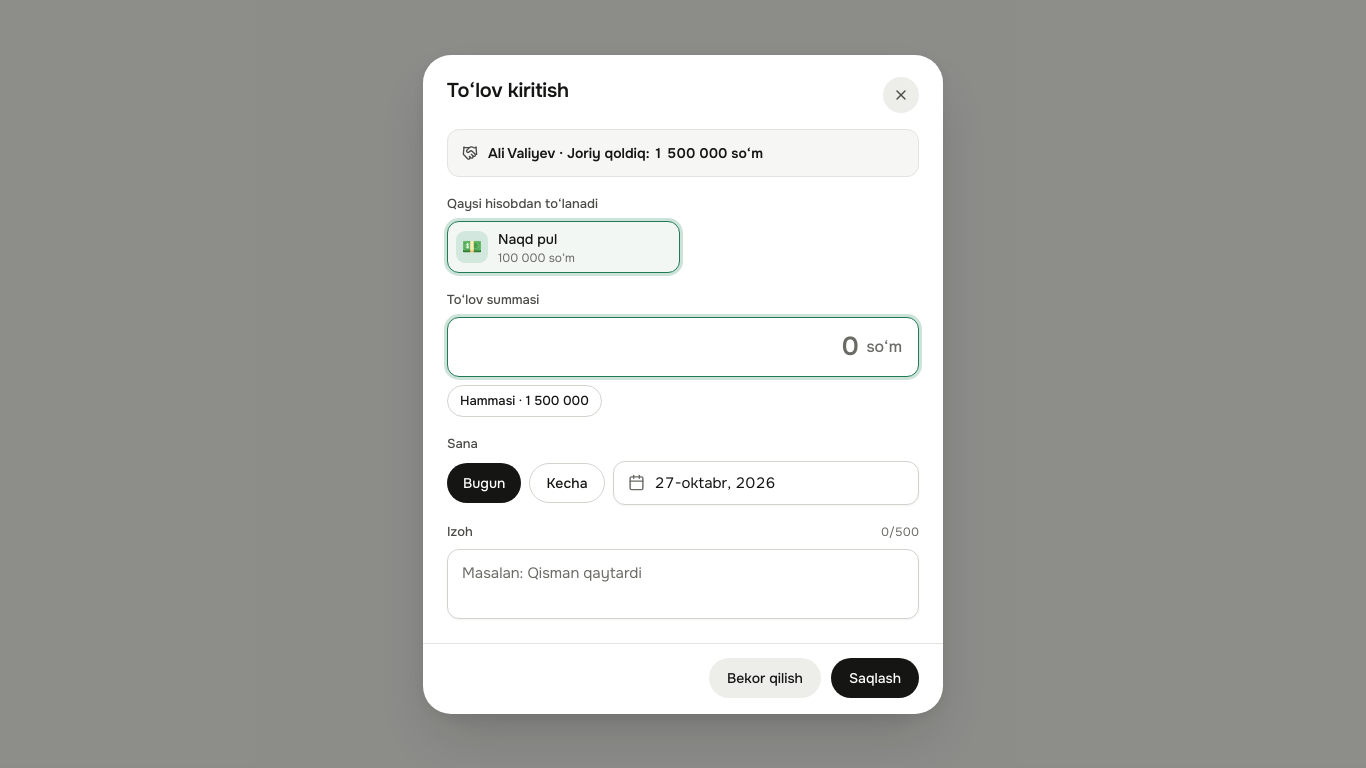
Test case: DebtPaymentModal › shows the strict-mode refusal inside the form
Check: the text "Qaysi hisobdan to‘lanadi" is shown, box [447, 194, 598, 212]
Type "1000" into the field labelled "To‘lov summasi" at (661, 346), box [464, 318, 858, 376]
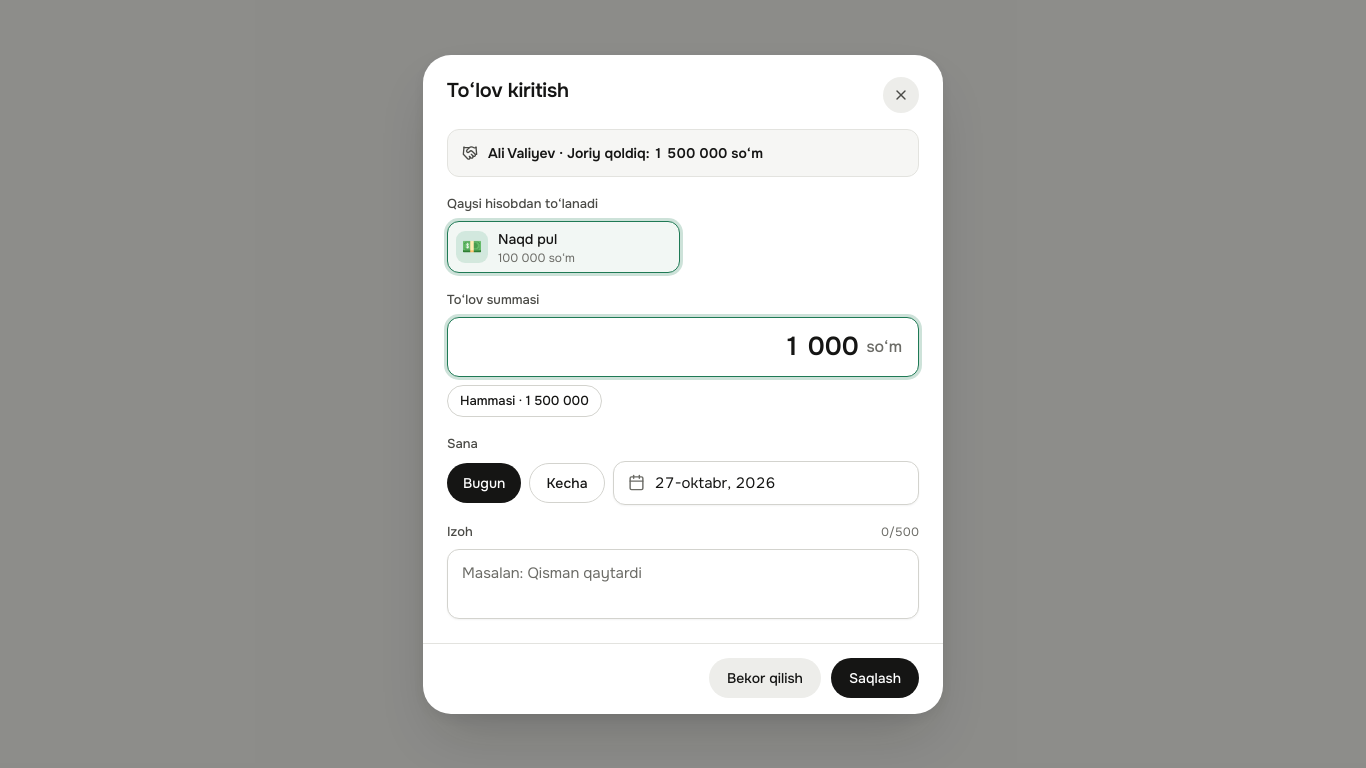
Click the button "Saqlash" at (875, 678), box [831, 658, 919, 698]
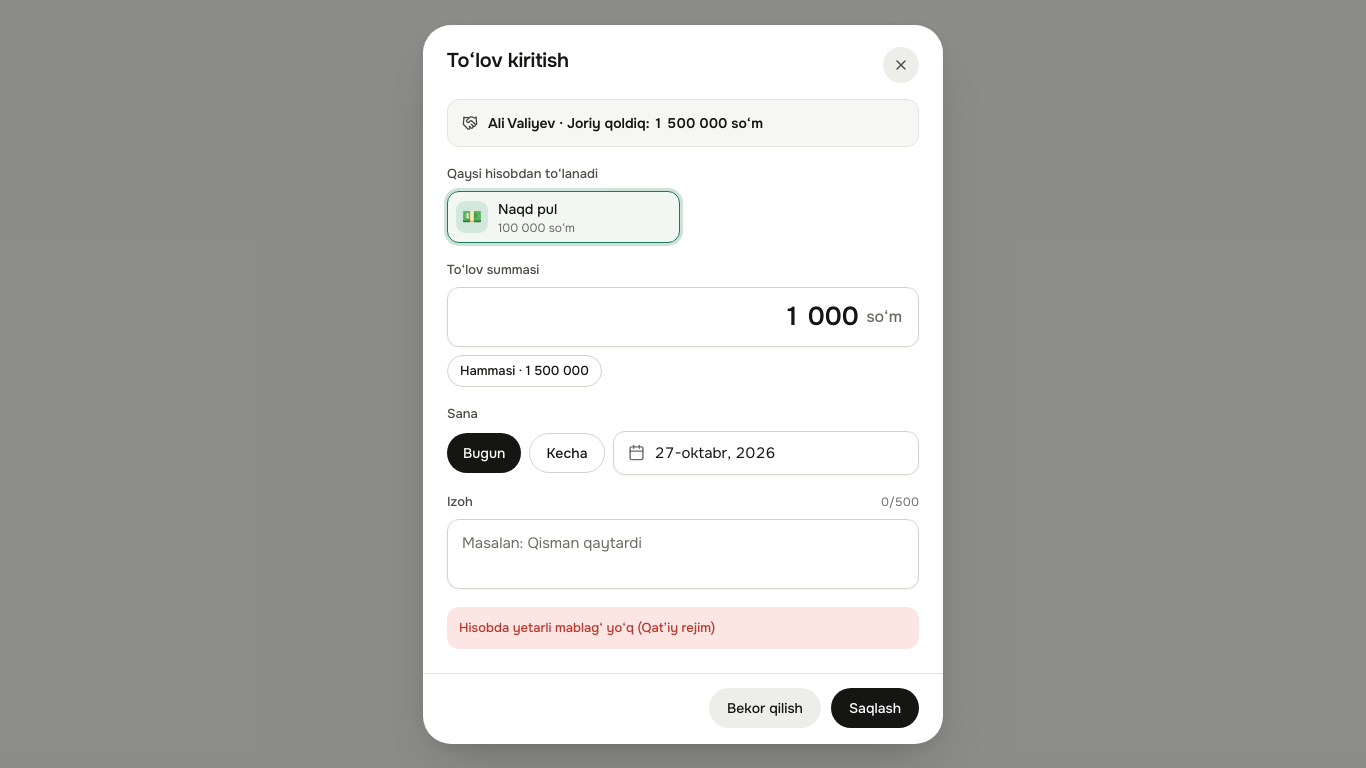
Check: the message shows "Qatʼiy rejim", box [459, 618, 715, 636]
